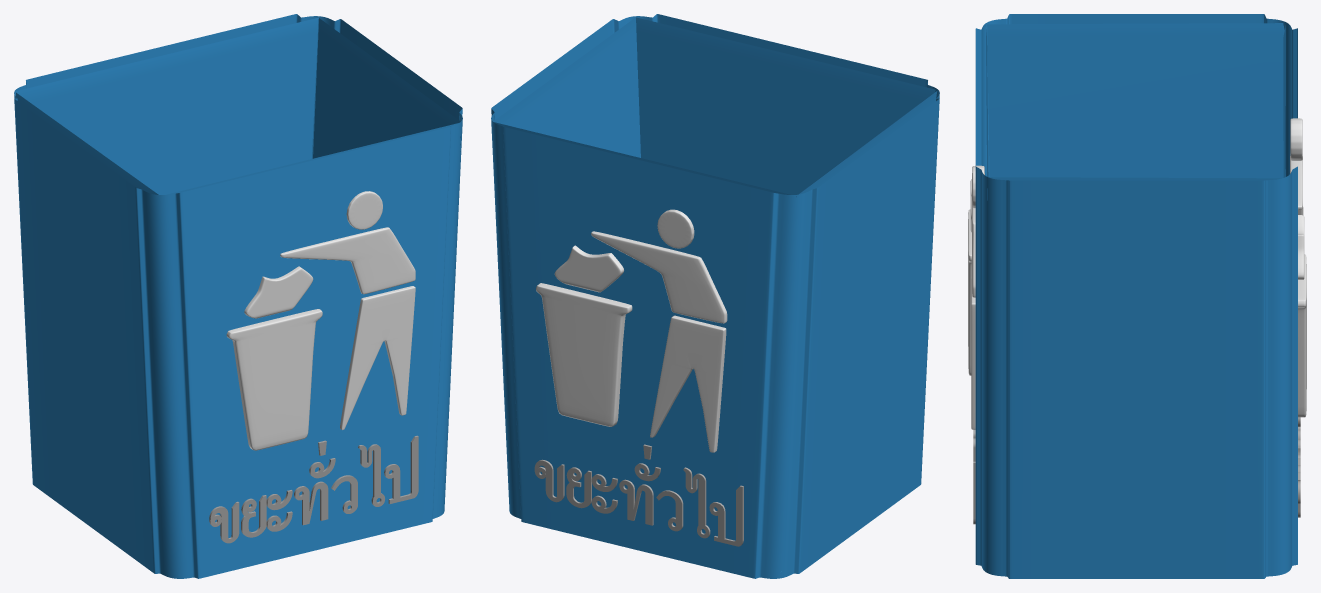
Rendered from bluebin_nothave.fbx.
3 renders of one model, left to right at view 1: azimuth 30°, elevation 25°; view 2: azimuth 150°, elevation 25°; view 3: azimuth 270°, elevation 25°, orthographic. The views are drawn at different scales.
Visible parts, largest first — view 1: typeMesh3; view 2: typeMesh3; view 3: typeMesh3.
Part boxes in pixels (bbox=[...]): typeMesh3: bbox=[14, 14, 462, 578]; typeMesh3: bbox=[491, 14, 939, 578]; typeMesh3: bbox=[968, 14, 1306, 578].
Size of the model in its own units: 5.46 by 6.24 by 4.7.
